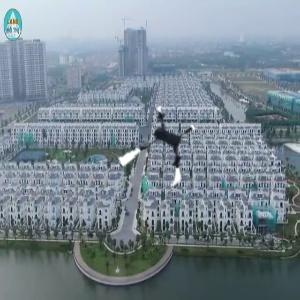drone: (118, 108, 202, 192)
